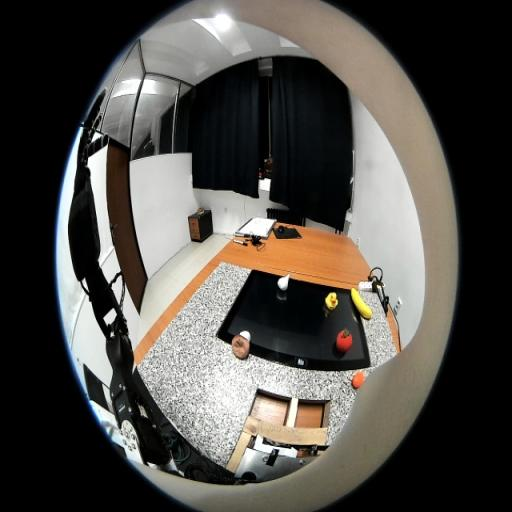Banana: (350, 287, 373, 320)
Duck: (325, 292, 338, 311)
LeftHand: (77, 128, 90, 166)
Mushroom: (232, 330, 250, 360)
Onion: (277, 273, 290, 291)
Orange: (352, 371, 364, 389)
Tomato: (336, 328, 353, 352)
